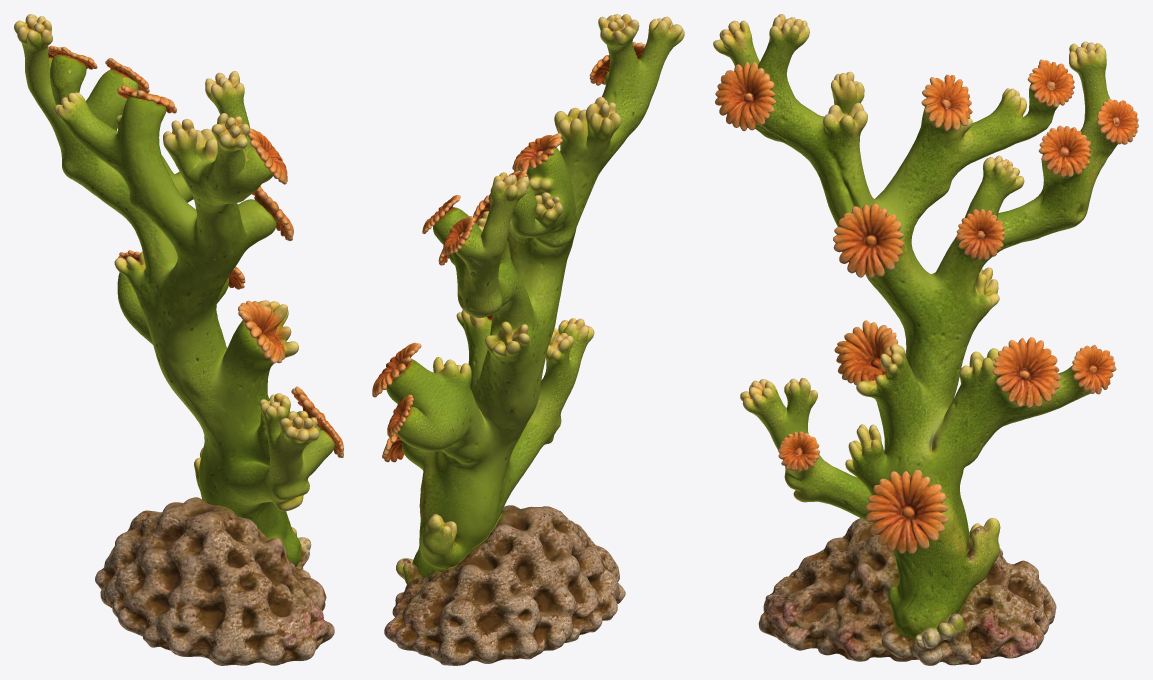
3 renders of one model, left to right at view 1: azimuth 30°, elevation 25°; view 2: azimuth 150°, elevation 25°; view 3: azimuth 270°, elevation 25°, orthographic. The views are drawn at different scales.
Size of the model in its own units: 0.406 by 0.9999 by 0.6628.
Materials: 1 (1 with a texture image).
